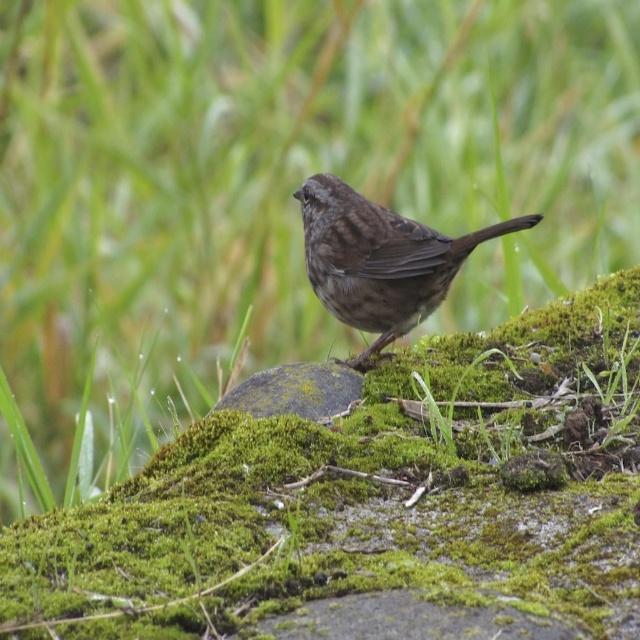Sparrow: (291, 170, 545, 369)
